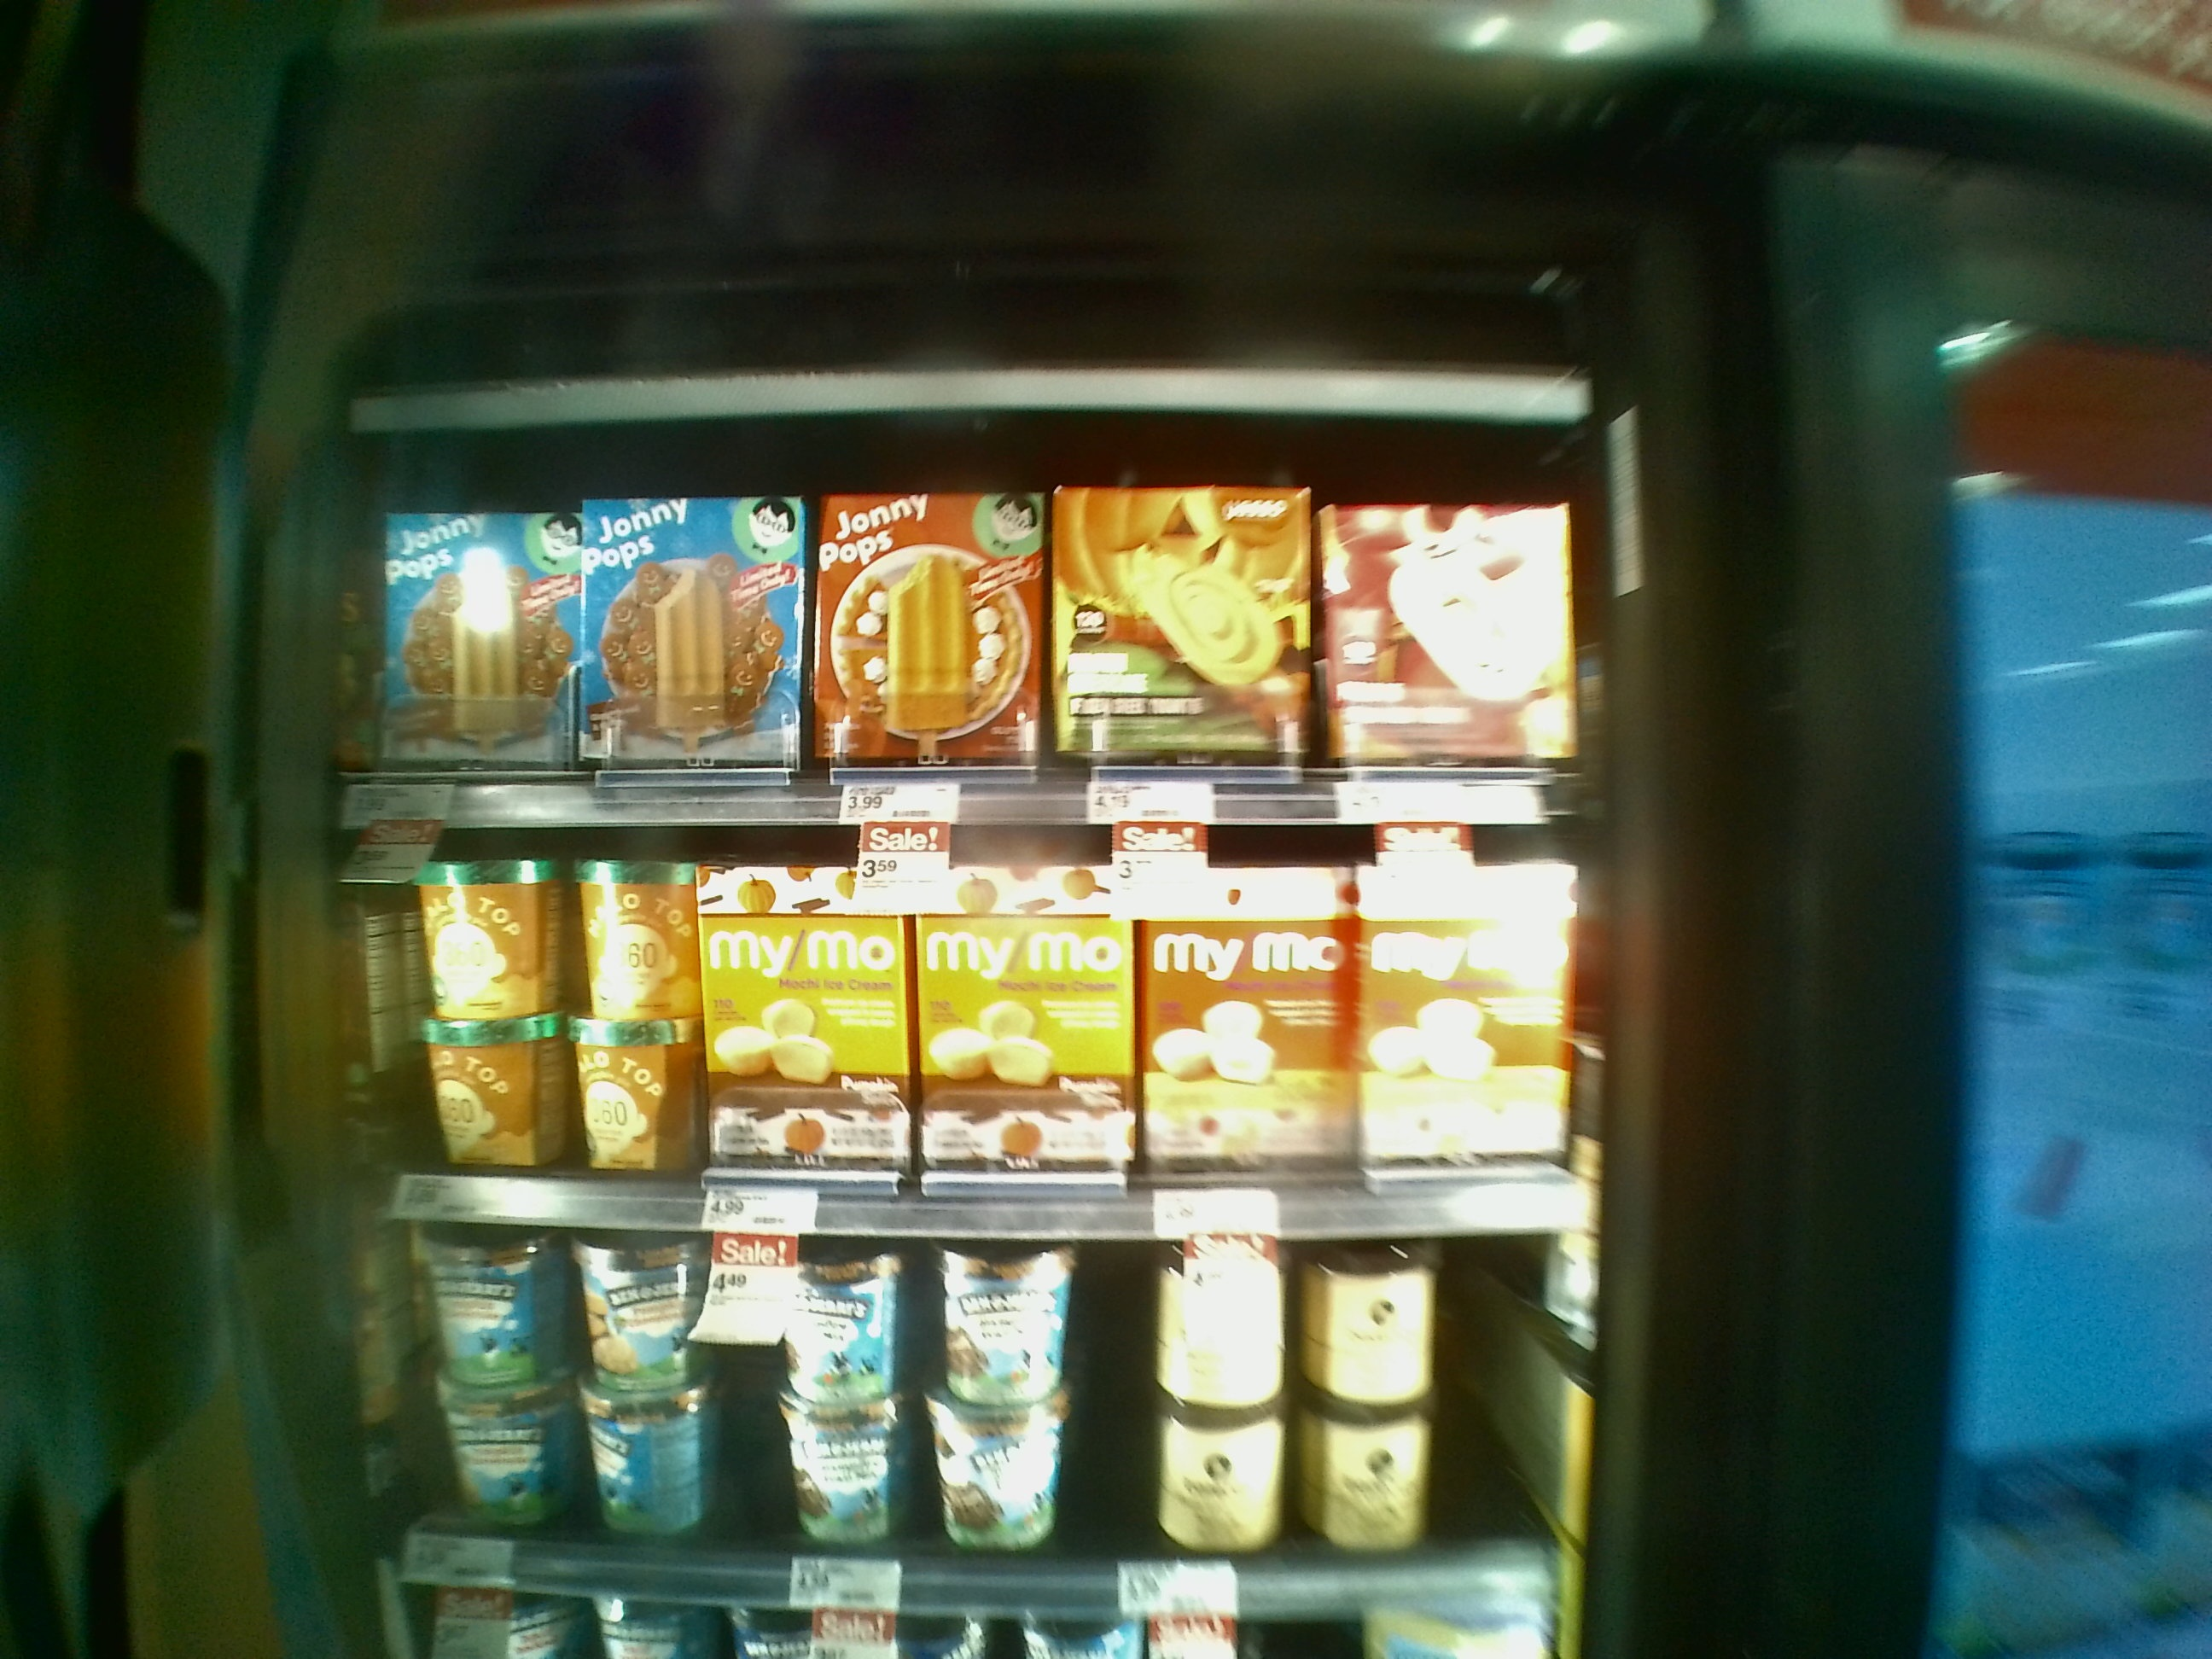shelf: (312, 823, 1599, 1229), (307, 1218, 1602, 1617), (333, 450, 1613, 817)
